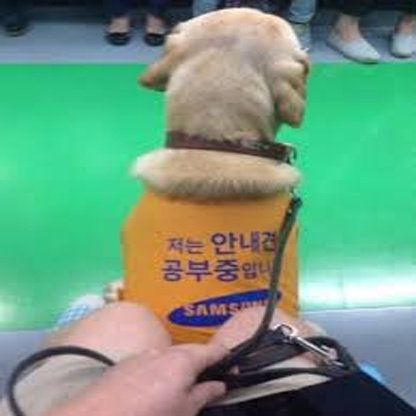guide-dog: (108, 8, 309, 350)
